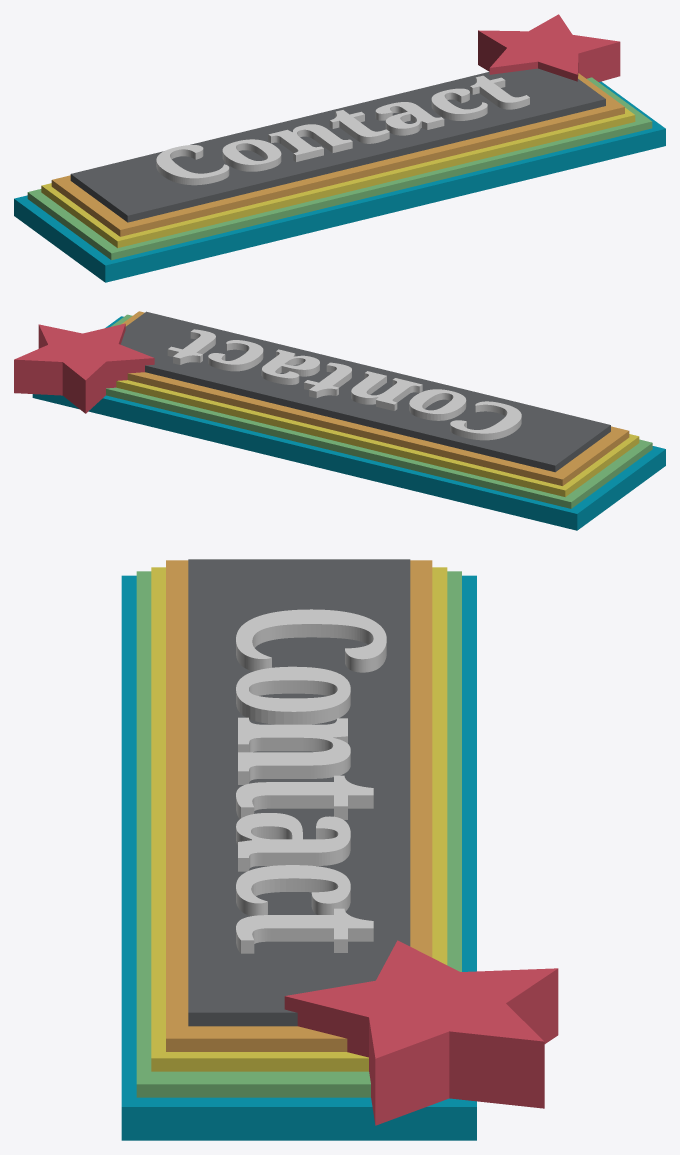
The model's file is txtContacte.glb.
3 views of the same model, one above another, from view 1: azimuth 30°, elevation 25°; view 2: azimuth 150°, elevation 25°; view 3: azimuth 270°, elevation 25° (orthographic). The views are drawn at different scales.
Parts seen in each view (by area): view 1: Mesh_Mesh_head_geo.001_lambert2SG.001; view 2: Mesh_Mesh_head_geo.001_lambert2SG.001; view 3: Mesh_Mesh_head_geo.001_lambert2SG.001.
Part boxes in pixels (x1=…): Mesh_Mesh_head_geo.001_lambert2SG.001: x1=14, y1=14, x2=665, y2=282; Mesh_Mesh_head_geo.001_lambert2SG.001: x1=14, y1=311, x2=665, y2=530; Mesh_Mesh_head_geo.001_lambert2SG.001: x1=121, y1=559, x2=558, y2=1140.
Bounding box in the file's own units: 176 × 15 × 59.
